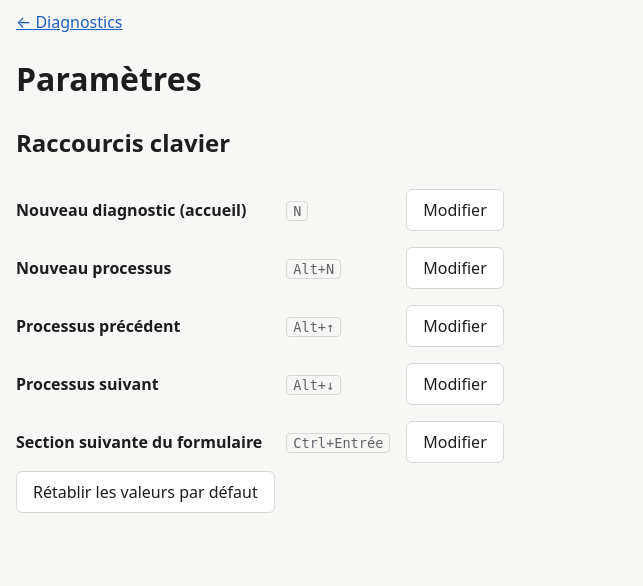
Test: Paramètres › remplace un raccourci par la combinaison tapée
Click the button "Modifier" in the row of "Nouveau processus" at (455, 268), box left=406, top=247, right=504, bottom=289
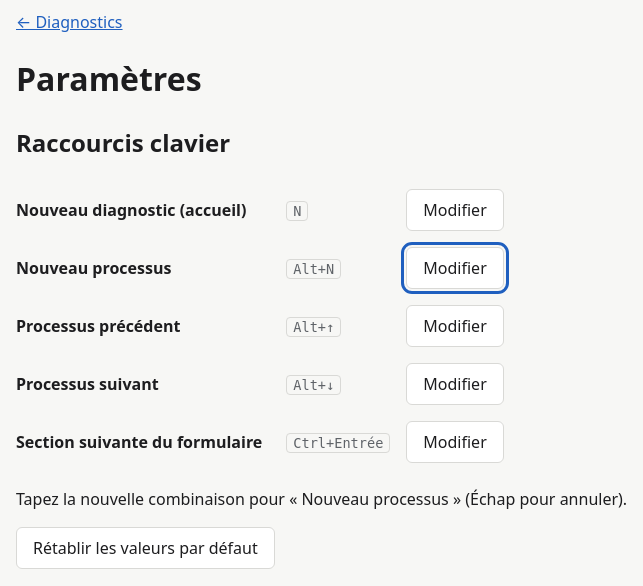
Now the message shows "Tapez la nouvelle combinaison", box left=16, top=488, right=302, bottom=510
Type keys "{Control>}{Shift>}p{/Shift}{/Control}"
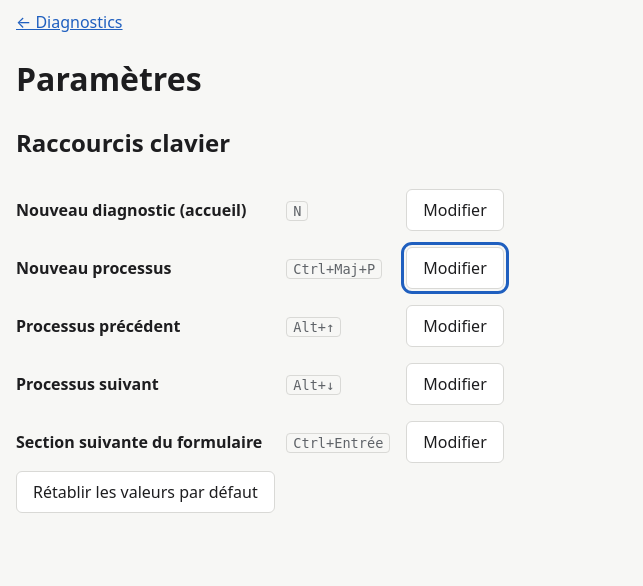
Now the text "Ctrl+Maj+P" is shown, box left=286, top=259, right=382, bottom=279
Now the message "Tapez la nouvelle combinaison pour « Nouveau processus » (Échap pour annuler)." is gone
